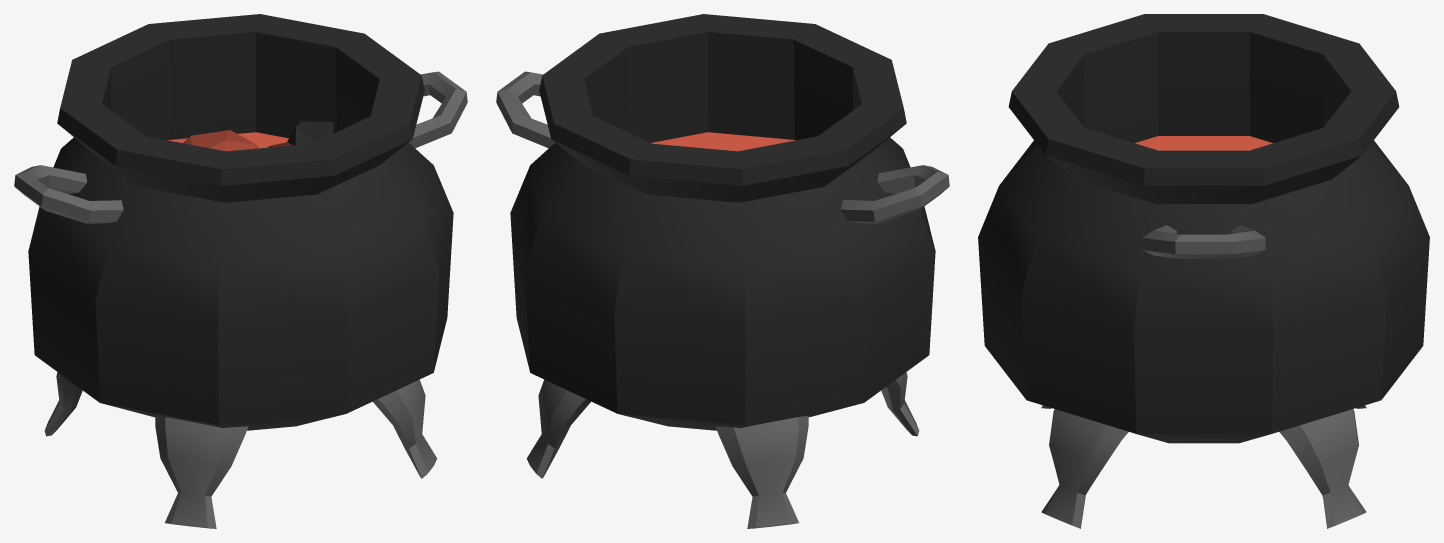
File: EA_Items_House_cauldron_soup_01a.glb
The picture shows the model from 3 angles, left to right: view 1: azimuth 30°, elevation 25°; view 2: azimuth 150°, elevation 25°; view 3: azimuth 270°, elevation 25°; orthographic projection. The views are drawn at different scales.
Parts seen in each view (by area): view 1: EA_Items_House_cauldron_soup_01a; view 2: EA_Items_House_cauldron_soup_01a; view 3: EA_Items_House_cauldron_soup_01a.
Part boxes in pixels (x1,y1,x2,y2): EA_Items_House_cauldron_soup_01a: [14, 14, 467, 528]; EA_Items_House_cauldron_soup_01a: [496, 14, 949, 528]; EA_Items_House_cauldron_soup_01a: [978, 14, 1429, 528].
Bounding box in the file's own units: 0.5314 × 0.4261 × 0.4693.
1 material, 1 textured.
